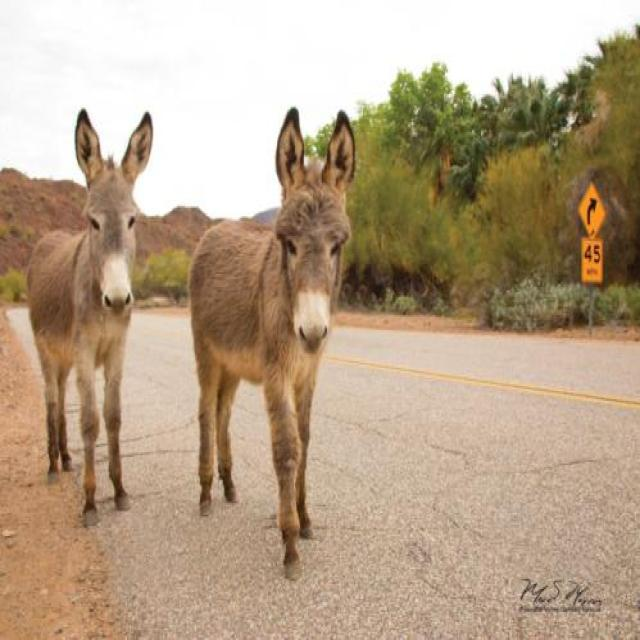Donkey: (191, 106, 356, 591), (30, 108, 155, 525)
